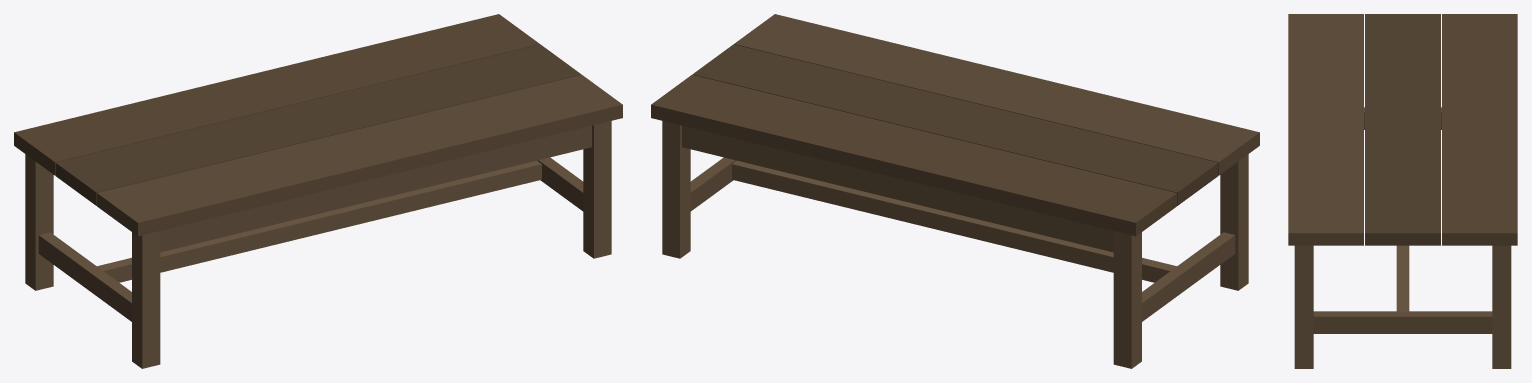
File: ReceivingBench.glb
The picture shows the model from 3 angles, left to right: view 1: azimuth 30°, elevation 25°; view 2: azimuth 150°, elevation 25°; view 3: azimuth 270°, elevation 25°; orthographic projection. The views are drawn at different scales.
Visible parts, largest first — view 1: ReceivingBench; view 2: ReceivingBench; view 3: ReceivingBench.
Boxes of the visible parts, x1=… form: ReceivingBench: x1=14, y1=14, x2=622, y2=368; ReceivingBench: x1=651, y1=14, x2=1259, y2=368; ReceivingBench: x1=1288, y1=14, x2=1517, y2=368.
Size of the model in its own units: 1.89 by 0.56 by 0.836.
